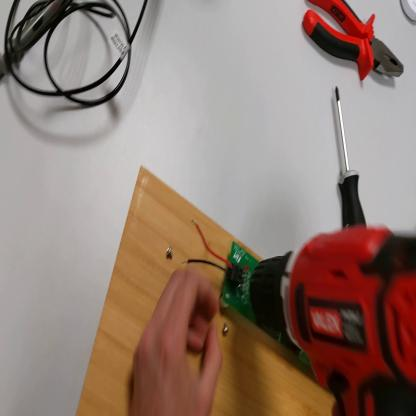electric screwdriver: (253, 228, 416, 415)
hand: (130, 268, 223, 413), (330, 394, 341, 416)
high voltage board: (183, 217, 312, 365)
oscilloscope probe tip: (1, 3, 62, 85)
pliers: (303, 2, 407, 82)
screwdriver-: (331, 89, 367, 227)
working area: (78, 164, 333, 415)
